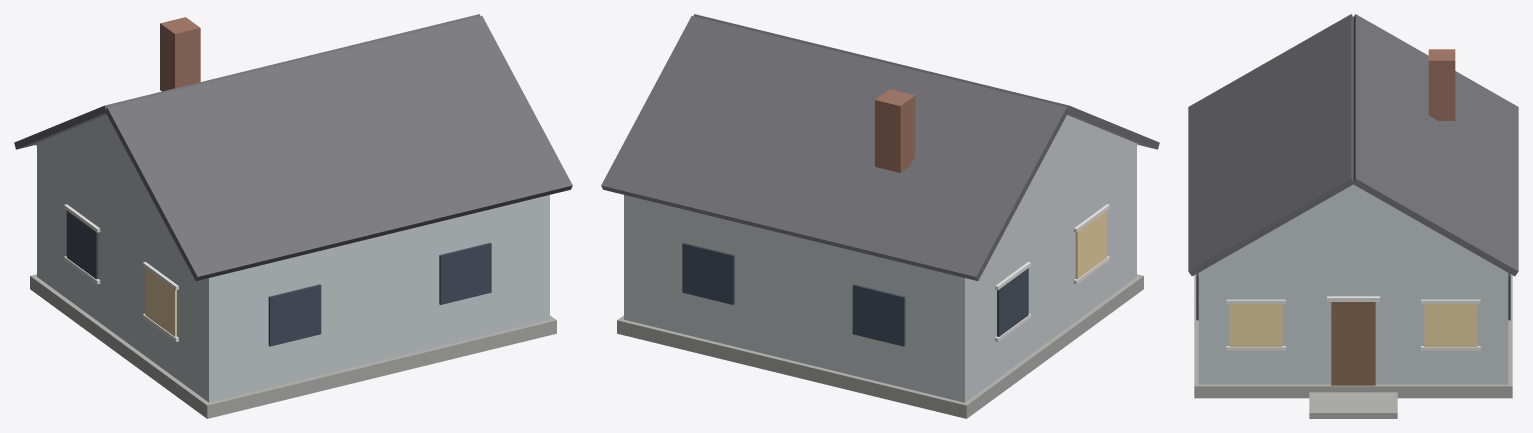
File: SM_House.fbx
3 views of the same model, side by side, from view 1: azimuth 30°, elevation 25°; view 2: azimuth 150°, elevation 25°; view 3: azimuth 270°, elevation 25° (orthographic). The views are drawn at different scales.
Parts seen in each view (by area): view 1: SM_House; view 2: SM_House; view 3: SM_House.
Part boxes in pixels (x1,y1,x2,y2): SM_House: [14, 14, 572, 418]; SM_House: [601, 14, 1159, 418]; SM_House: [1188, 14, 1518, 418].
Size of the model in its own units: 960 by 595 by 746.
